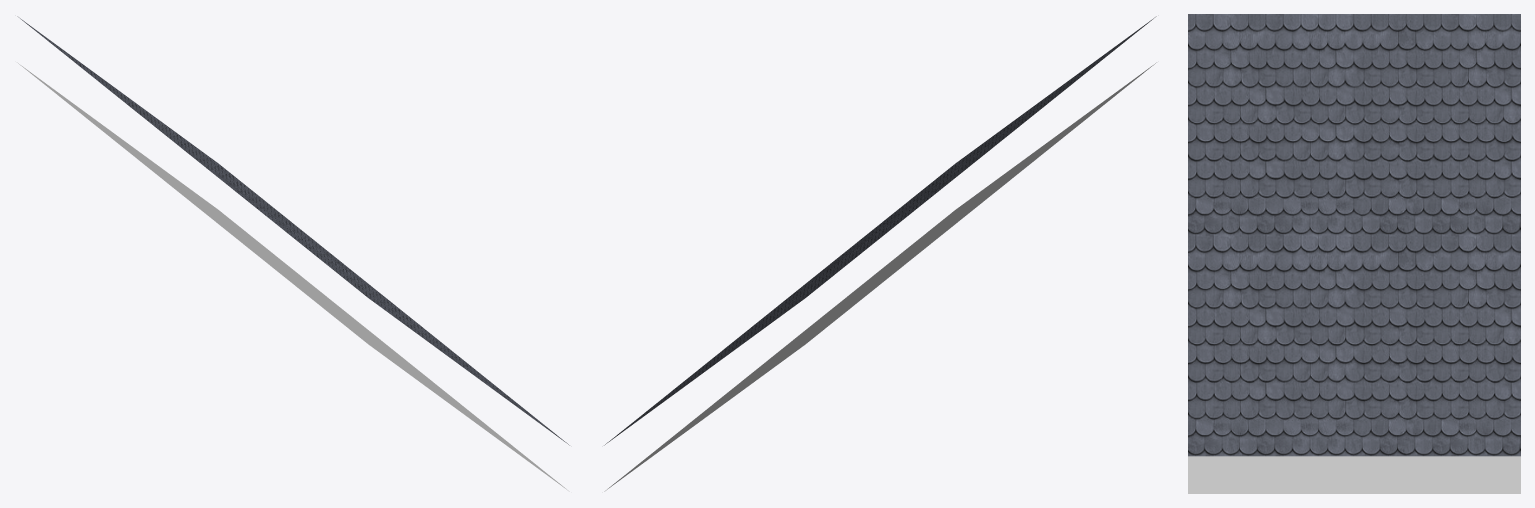
The model's file is roof.fbx.
3 renders of one model, left to right at view 1: azimuth 30°, elevation 25°; view 2: azimuth 150°, elevation 25°; view 3: azimuth 270°, elevation 25°, orthographic. The views are drawn at different scales.
Parts seen in each view (by area): view 1: roof; view 2: roof; view 3: roof.
Boxes of the visible parts, bbox=[...] form: roof: bbox=[17, 16, 569, 491]; roof: bbox=[604, 16, 1156, 491]; roof: bbox=[1188, 14, 1520, 493].
Bounding box in the file's own units: 12 × 13.5 × 12.
1 material, 1 textured.
